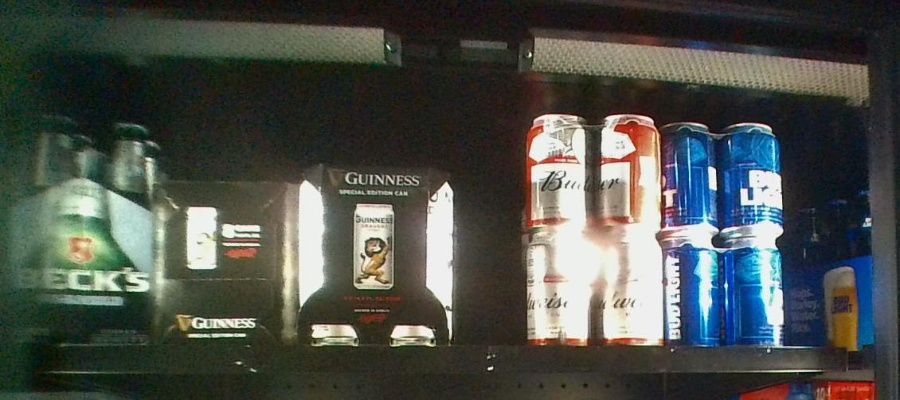bottle: (11, 112, 155, 342), (526, 113, 664, 348), (300, 161, 455, 348), (667, 121, 785, 351), (155, 179, 299, 352)
